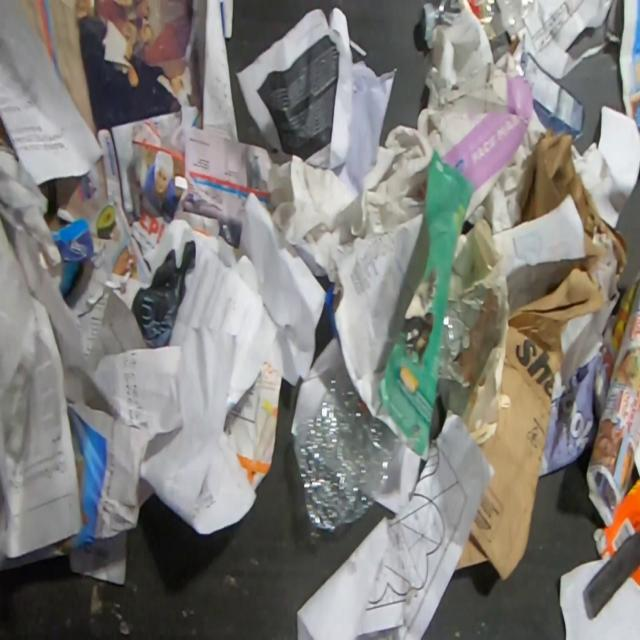cardboard: (504, 33, 586, 146), (221, 359, 283, 490)
rigid_plastic: (295, 364, 404, 532), (438, 282, 502, 390), (422, 0, 538, 41)
